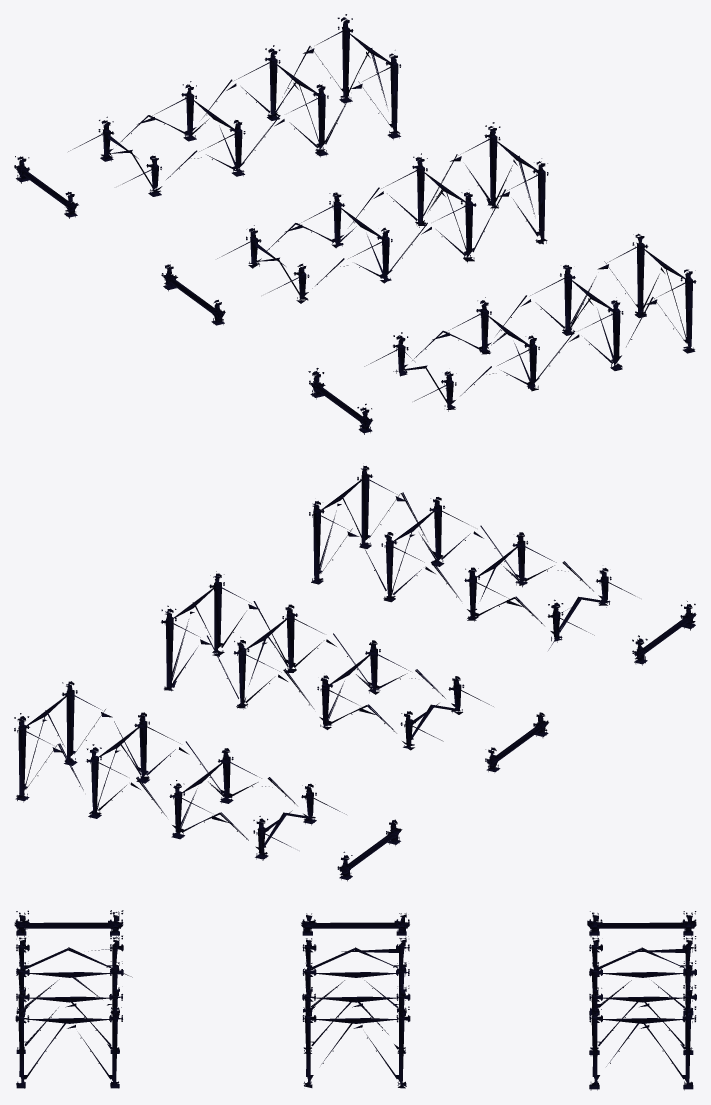
The model's file is LowerSupport.glb.
3 renders of one model, top to bottom at view 1: azimuth 30°, elevation 25°; view 2: azimuth 150°, elevation 25°; view 3: azimuth 270°, elevation 25°, orthographic. The views are drawn at different scales.
Visible parts, largest first — view 1: Lower Support; view 2: Lower Support; view 3: Lower Support.
Part boxes in pixels (box(x1,y1,x2,y2)): Lower Support: box(14, 14, 696, 434); Lower Support: box(14, 465, 696, 881); Lower Support: box(14, 910, 696, 1090).
Size of the model in its own units: 0.9304 by 0.2327 by 1.69.
